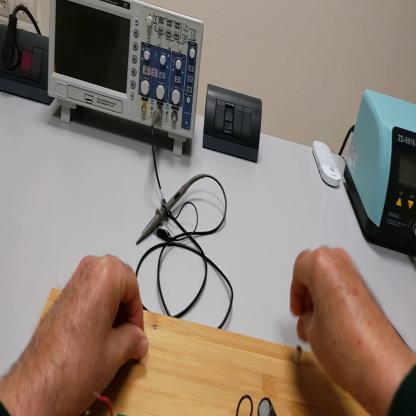hand: (28, 257, 149, 415), (292, 246, 394, 402)
high voltage board: (97, 393, 276, 414)
oscilloscope: (47, 3, 206, 158)
oscilloscope probe tip: (135, 171, 202, 251)
socket: (2, 21, 53, 105)
welder station: (344, 87, 416, 258)
working area: (42, 289, 367, 416)
